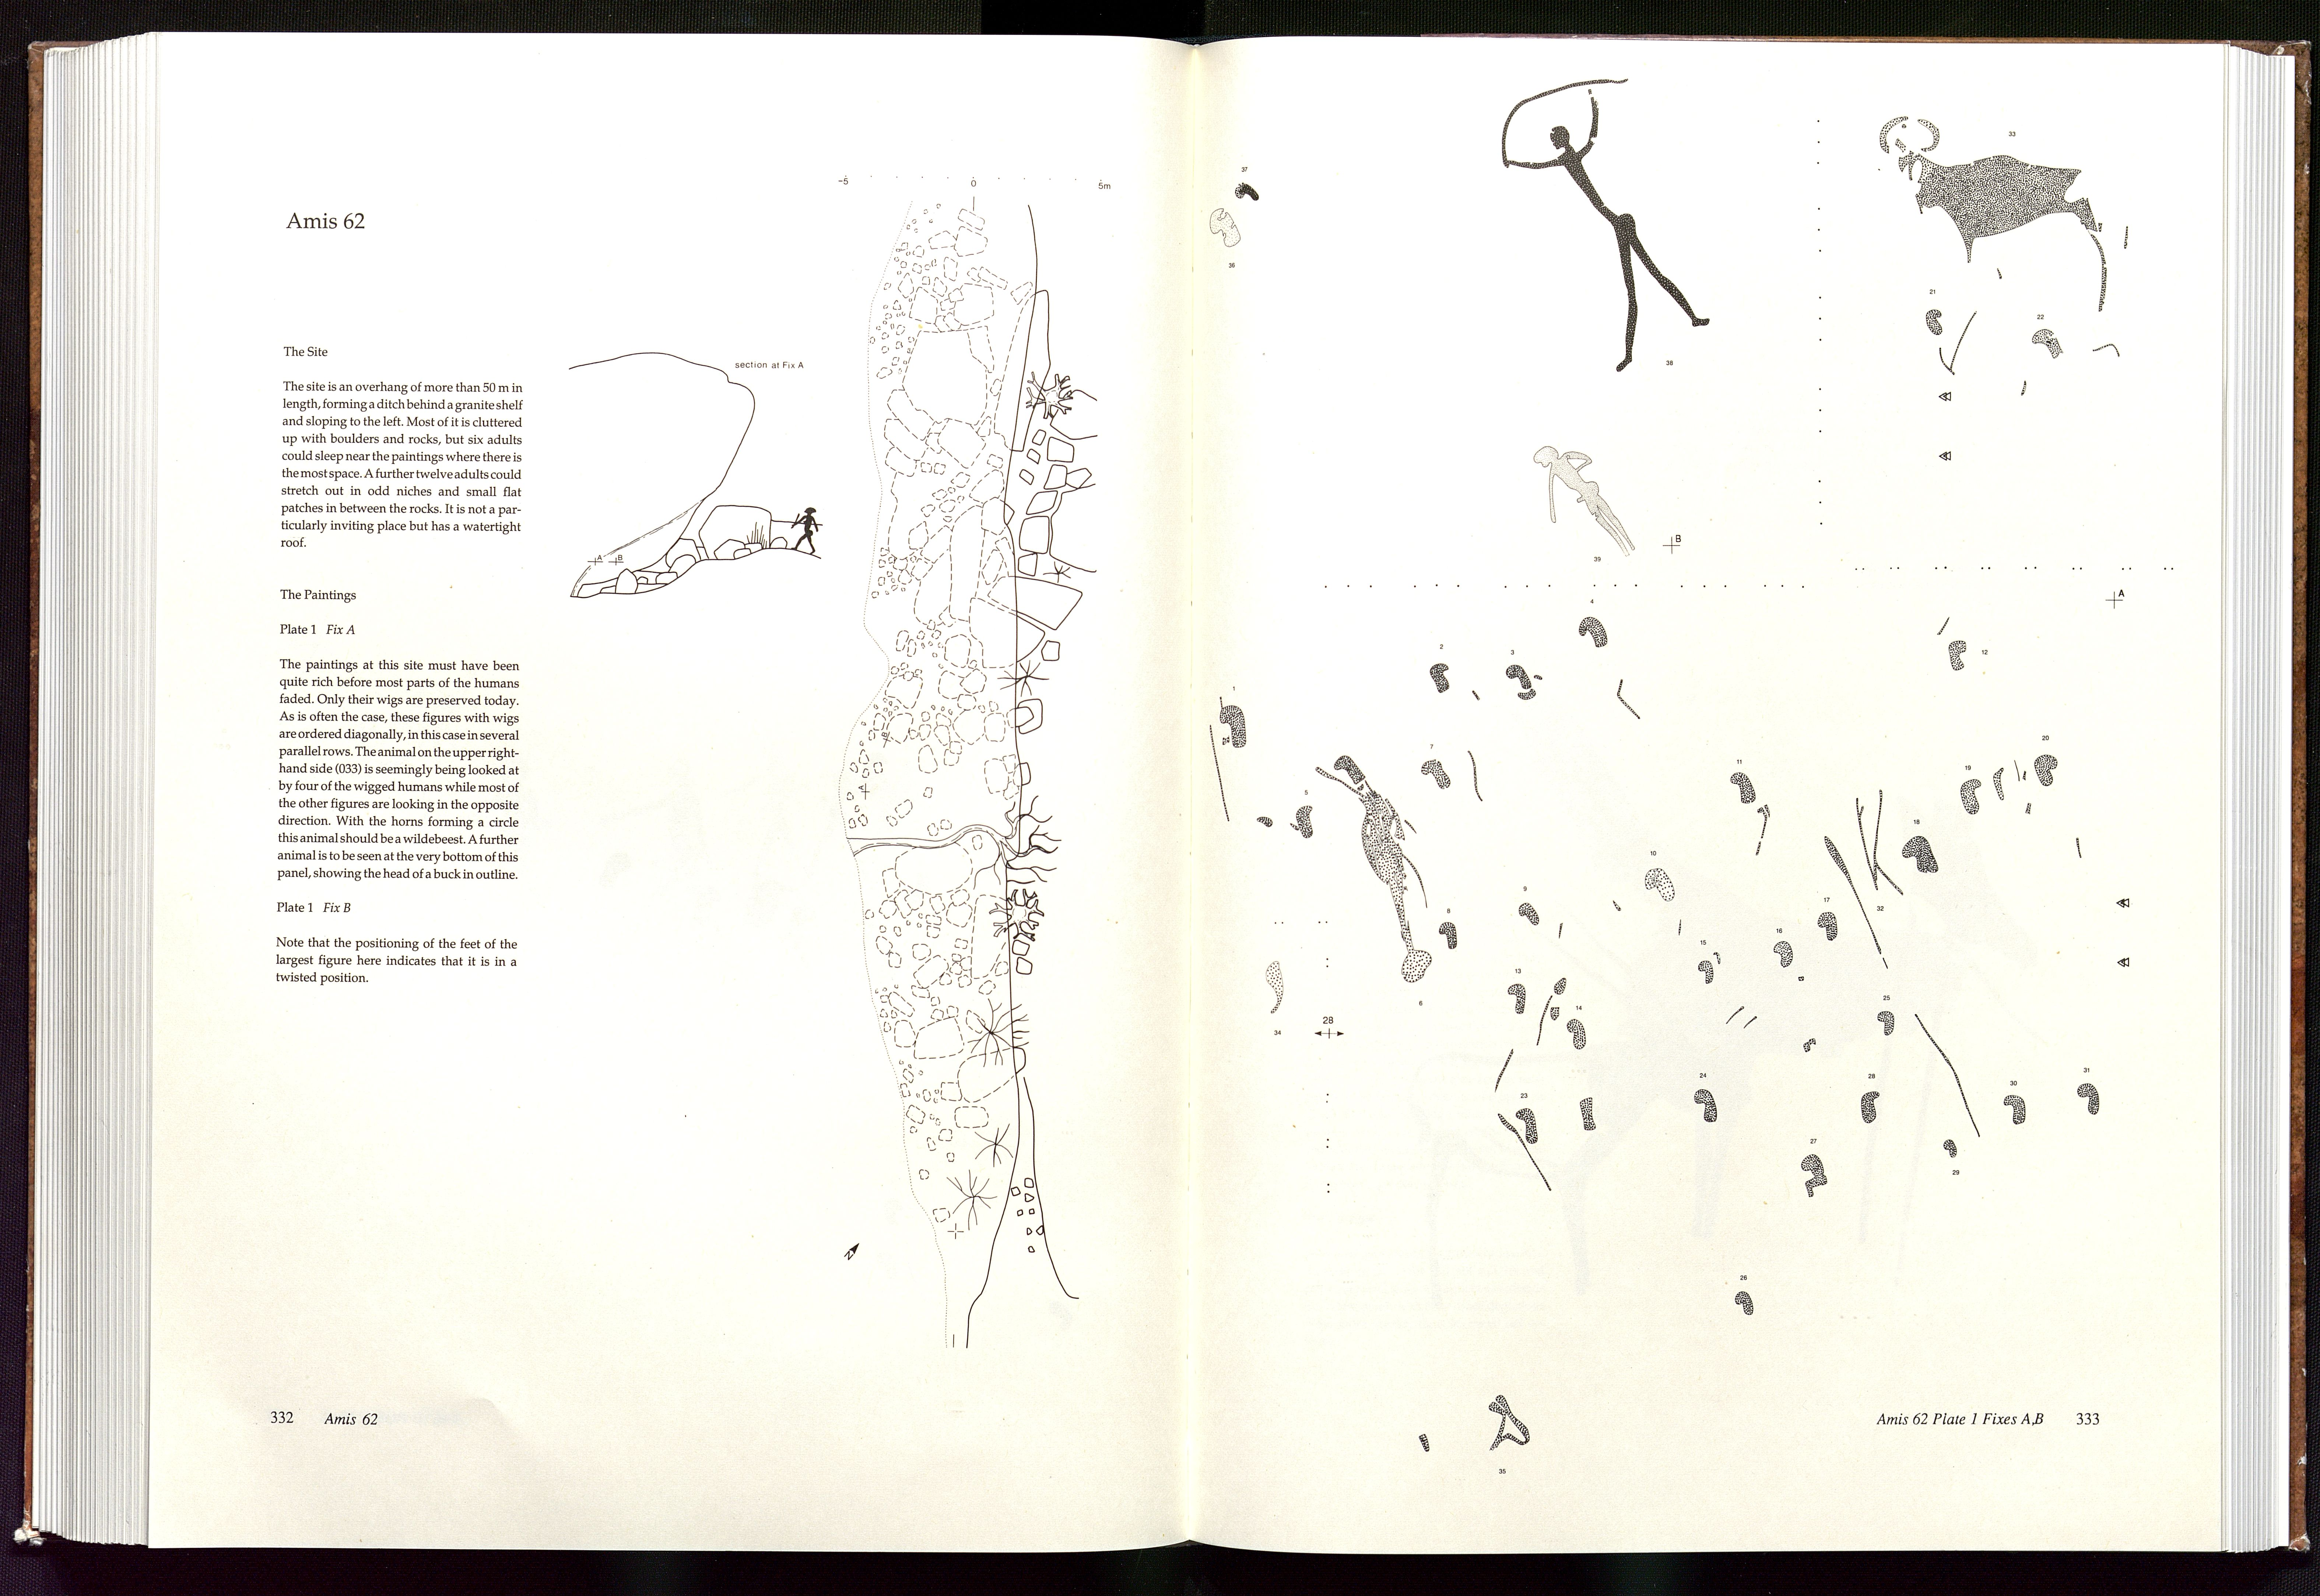animal: (1872, 109, 2130, 311)
human: (1499, 76, 1724, 380), (1531, 436, 1644, 558)
